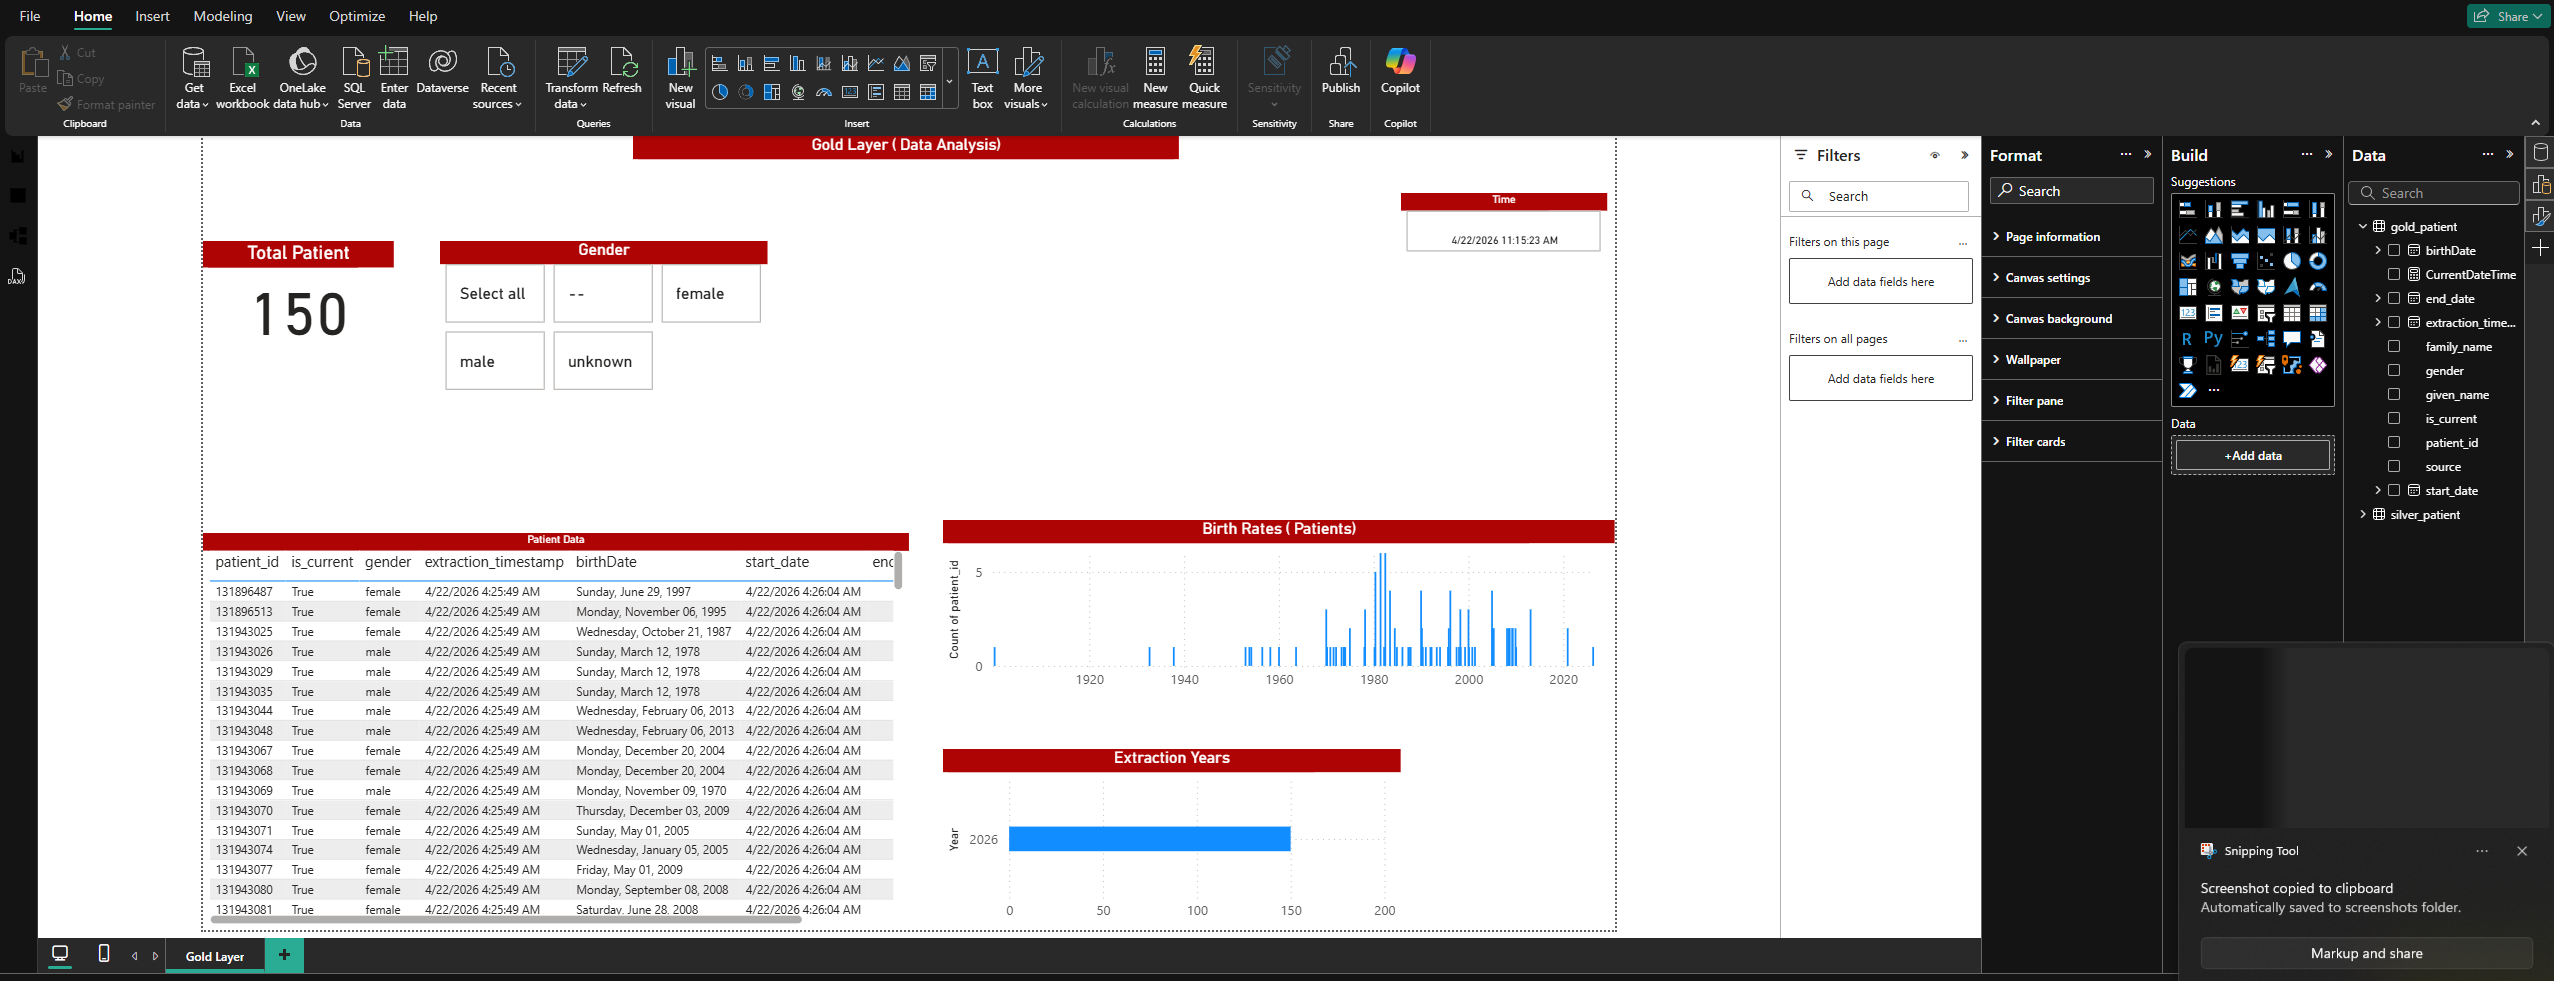

The dashboard page shown, as its layout file describes it:
{"tool":"powerbi","page":{"name":"Gold Layer","canvas":[1280,720],"ordinal":0},"visuals":[{"type":"card","title":"Total Patient","fields":{"Values":["CountNonNull(gold_patient.patient_id)"]},"box":[0,95.2,173.2,98.8],"z":0},{"type":"tableEx","title":"Patient Data","fields":{"Values":["gold_patient.patient_id","gold_patient.is_current","gold_patient.gender","gold_patient.extraction_timestamp","gold_patient.birthDate","gold_patient.start_date","gold_patient.end_date","gold_patient.source"]},"box":[0,360,640.2,360],"z":1},{"type":"advancedSlicerVisual","title":"Gender","fields":{"Values":["gold_patient.gender"]},"box":[214.9,95.2,297.4,140.6],"z":2},{"type":"clusteredColumnChart","title":"Birth Rates ( Patients)","fields":{"Category":["gold_patient.birthDate"],"Y":["CountNonNull(gold_patient.patient_id)"]},"box":[671,348.2,609.4,162.3],"z":3},{"type":"clusteredBarChart","title":"Extraction Years","fields":{"Category":["gold_patient.extraction_timestamp.Variation.Date Hierarchy.Year"],"Y":["CountNonNull(gold_patient.patient_id)"]},"box":[671,555.9,415.3,164.1],"z":4},{"type":"textbox","title":"Gold Layer ( Data Analysis)","box":[389.9,0,495.1,21.8],"z":5},{"type":"cardVisual","title":"Time","fields":{"Data":["gold_patient.CurrentDateTime"]},"box":[1086.3,51.7,186.8,58],"z":6}]}

Visuals, with their boxes on the page's 1280x720 design canvas (x1, y1, x2, y2). These are canvas units, not pixel positions in the 2554x981 screenshot, which may show the page scaled, cropped or inside an application window:
"Total Patient" card: 0/95/173/194
"Patient Data" tableEx: 0/360/640/720
"Gender" advancedSlicerVisual: 215/95/512/236
"Birth Rates ( Patients)" clusteredColumnChart: 671/348/1280/510
"Extraction Years" clusteredBarChart: 671/556/1086/720
"Gold Layer ( Data Analysis)" textbox: 390/0/885/22
"Time" cardVisual: 1086/52/1273/110
